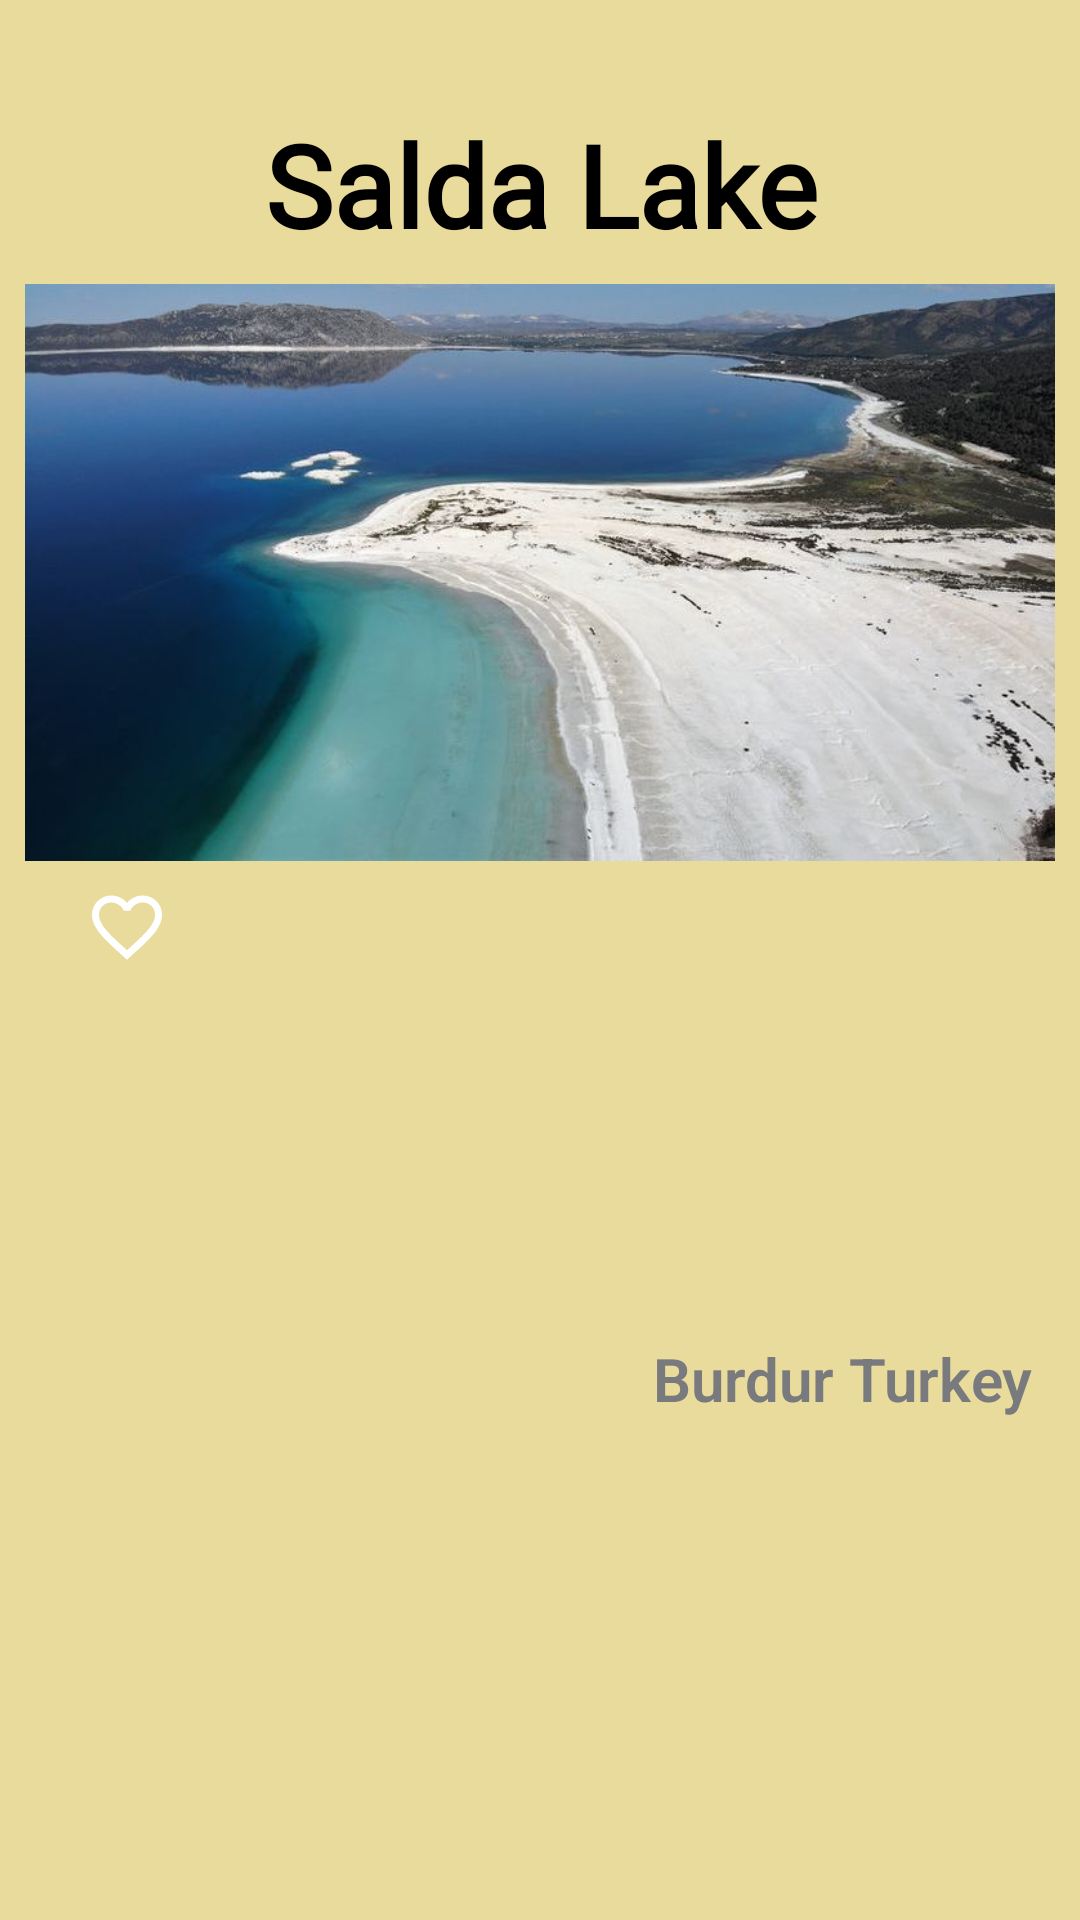

Locate icon controls on the screen. Image size 1080*1920, boxes as box=[x1, y1, x2, y2].
favorite false: box=[92, 895, 162, 960]
